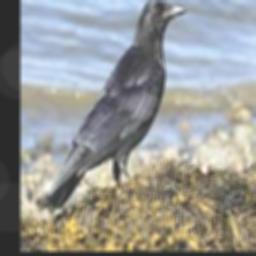Crow: (43, 0, 186, 211)
